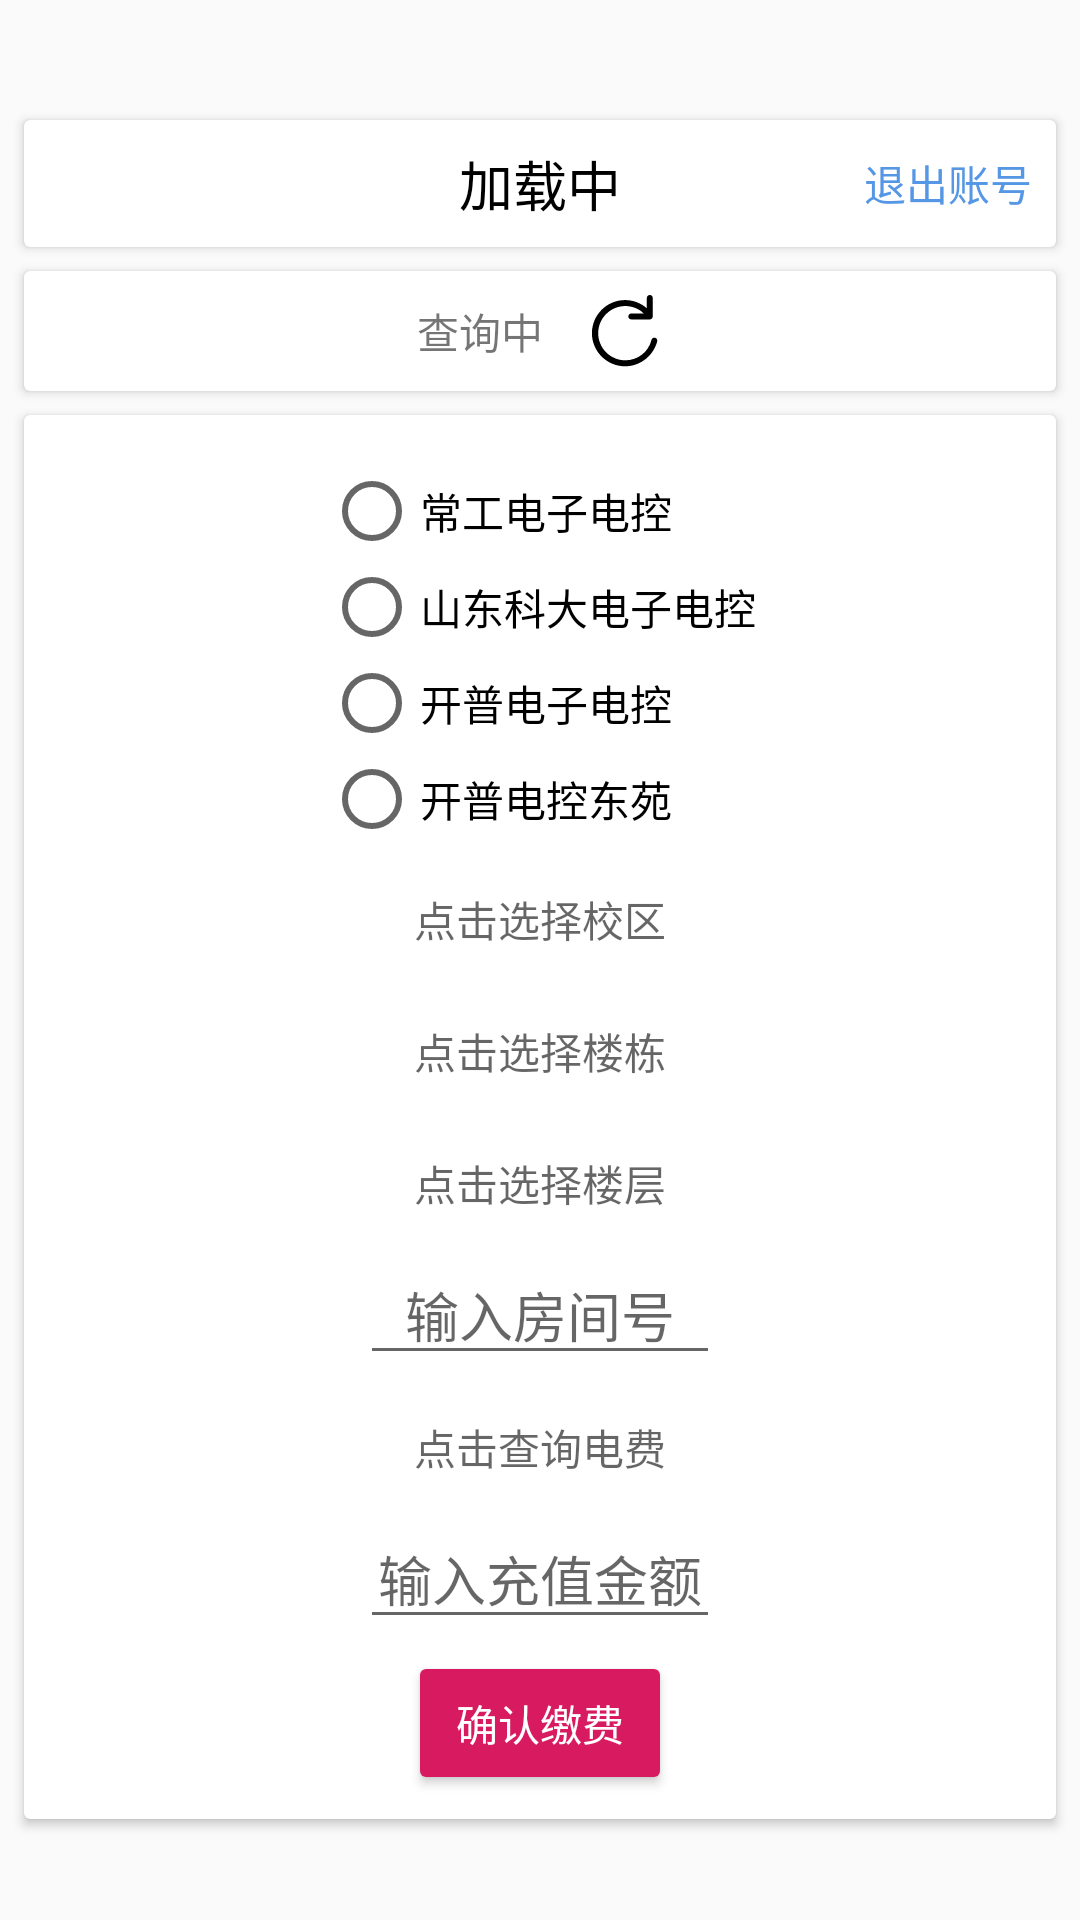

Point at icon controls on the screen. Image size 1080×1920, points as [x,y].
refresh: [625,331]
